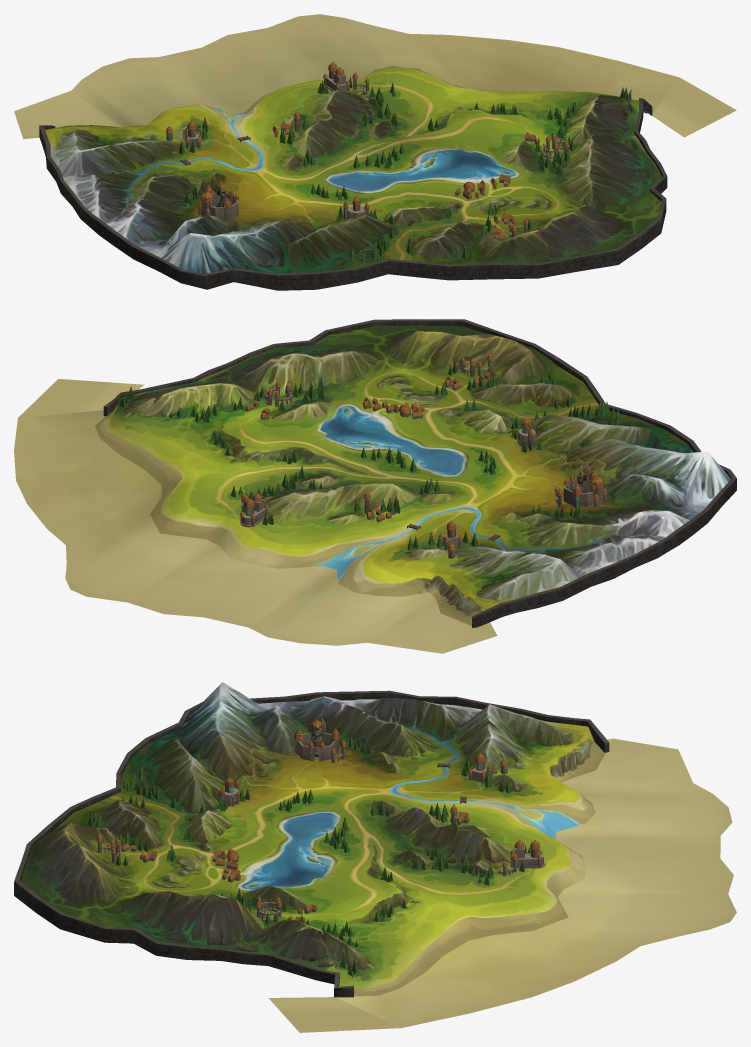
The model's file is worldmap_03.FBX.
3 renders of one model, top to bottom at view 1: azimuth 30°, elevation 25°; view 2: azimuth 150°, elevation 25°; view 3: azimuth 270°, elevation 25°, orthographic. The views are drawn at different scales.
Parts seen in each view (by area): view 1: worldmap_03; view 2: worldmap_03; view 3: worldmap_03.
Part boxes in pixels (bbox=[...]): worldmap_03: bbox=[14, 14, 736, 290]; worldmap_03: bbox=[14, 319, 736, 653]; worldmap_03: bbox=[14, 682, 736, 1032].
Size of the model in its own units: 55.65 by 53.35 by 4.34.
